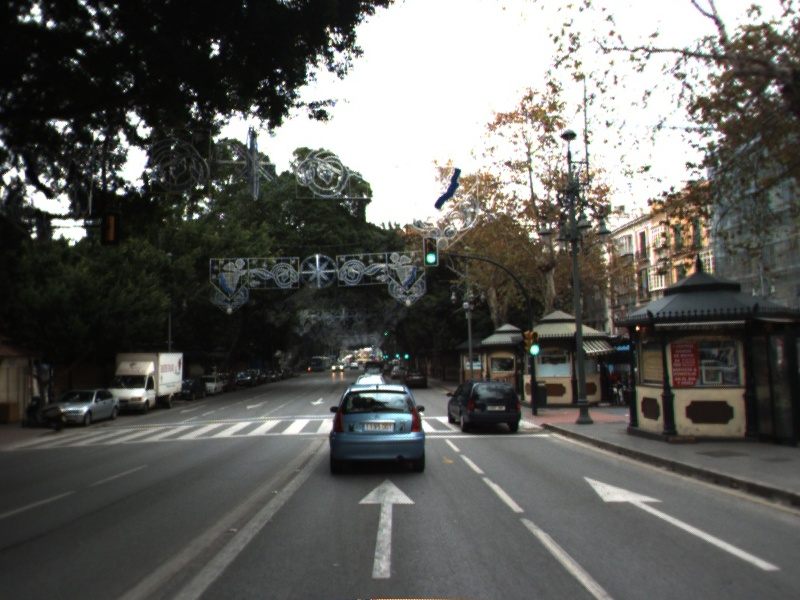STRAIGHT: (581, 474, 785, 574), (355, 475, 419, 581)
